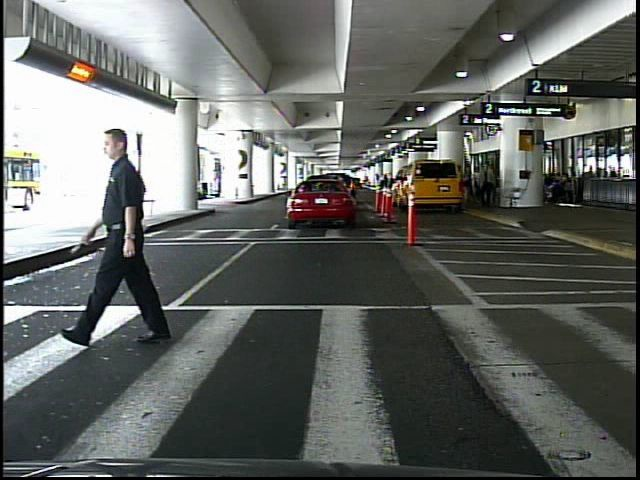person: (74, 125, 175, 352), (479, 163, 496, 209)
